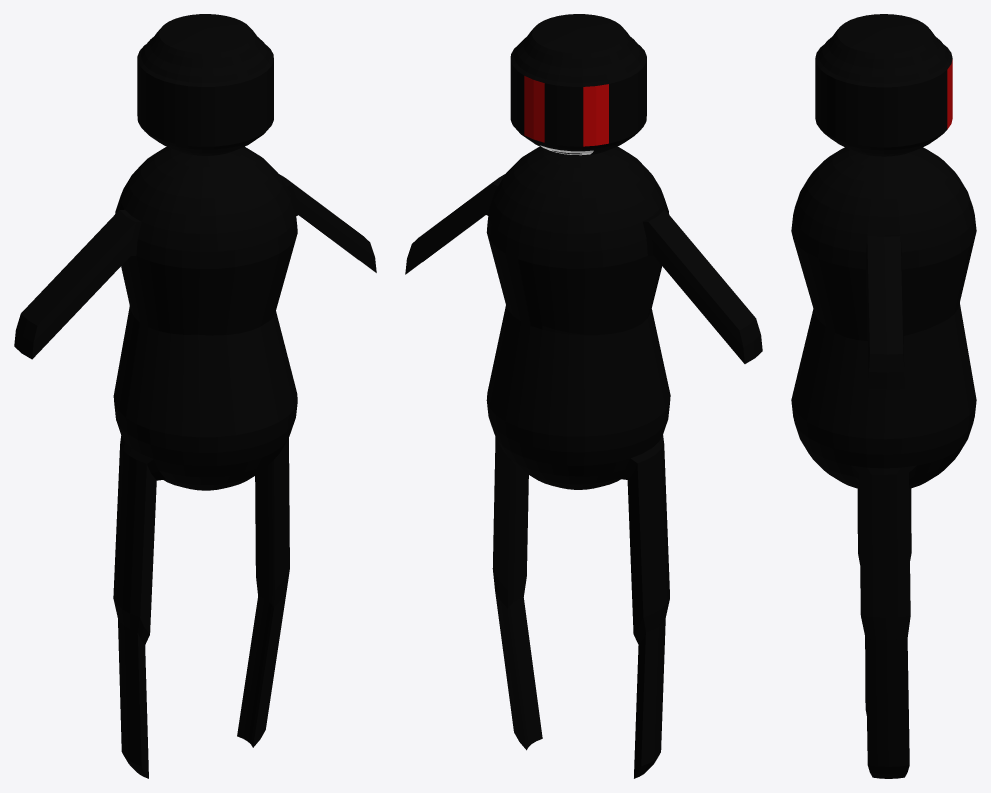
Rendered from stickman.obj.
3 views of the same model, side by side, from view 1: azimuth 30°, elevation 25°; view 2: azimuth 150°, elevation 25°; view 3: azimuth 270°, elevation 25° (orthographic).
Parts seen in each view (by area): view 1: Sphere; view 2: Sphere; view 3: Sphere.
Boxes of the visible parts, box(x1,y1,x2,y2) form: Sphere: box(14, 14, 376, 778); Sphere: box(405, 14, 762, 778); Sphere: box(791, 14, 976, 778).
Bounding box in the file's own units: 4.32 × 8.73 × 2.
